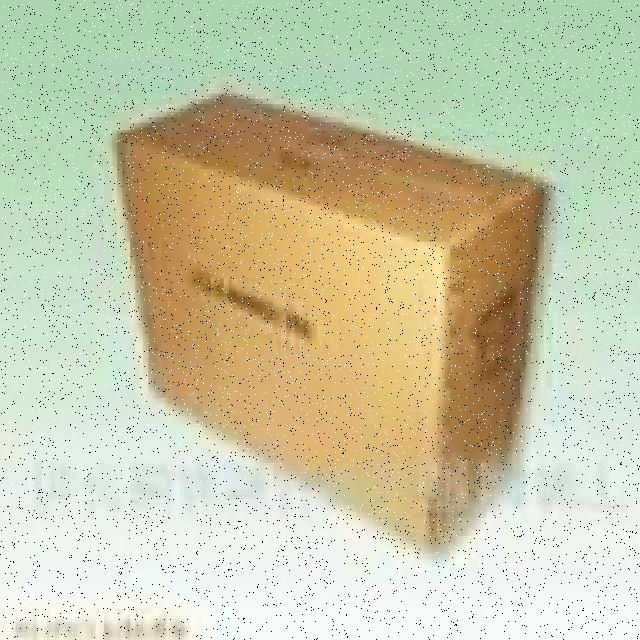box: (78, 108, 565, 531)
